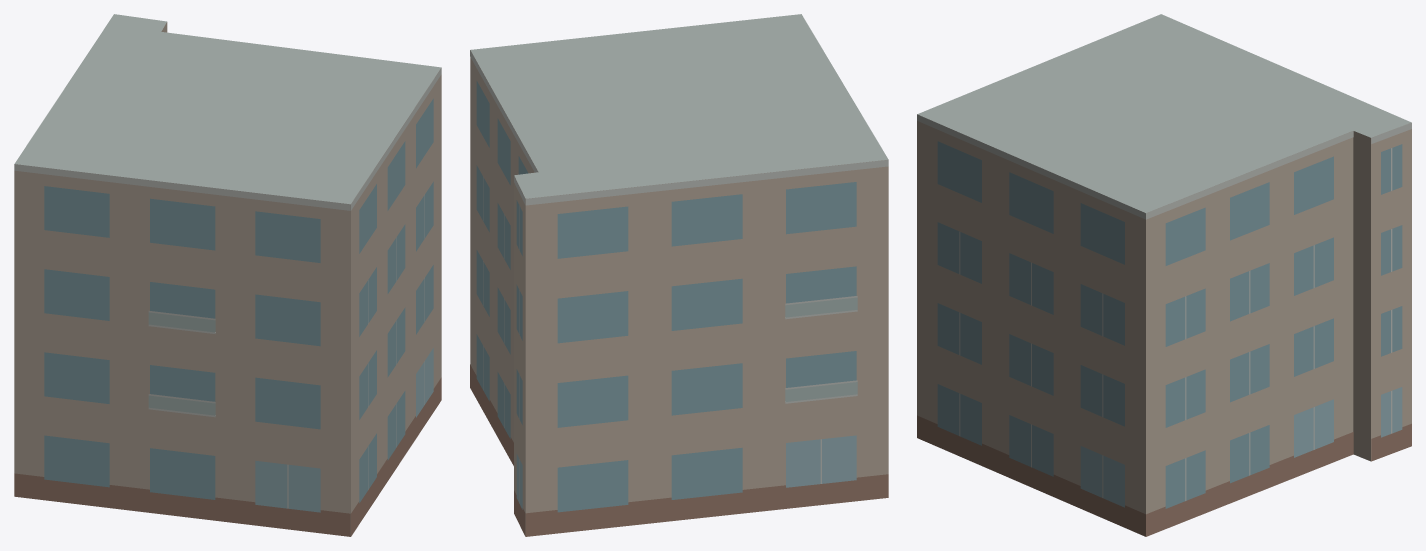
The model's file is survey-upis-32919323.glb.
3 views of the same model, side by side, from view 1: azimuth 30°, elevation 25°; view 2: azimuth 150°, elevation 25°; view 3: azimuth 270°, elevation 25° (orthographic). The views are drawn at different scales.
Visible parts, largest first — view 1: survey-upis-32919323.tmp; view 2: survey-upis-32919323.tmp; view 3: survey-upis-32919323.tmp.
Part boxes in pixels (left/top/right/bottom): survey-upis-32919323.tmp: left=14, top=14, right=441, bottom=536; survey-upis-32919323.tmp: left=470, top=14, right=888, bottom=536; survey-upis-32919323.tmp: left=917, top=14, right=1411, bottom=536.
Bounding box in the file's own units: 16.11 × 12.2 × 16.91.
